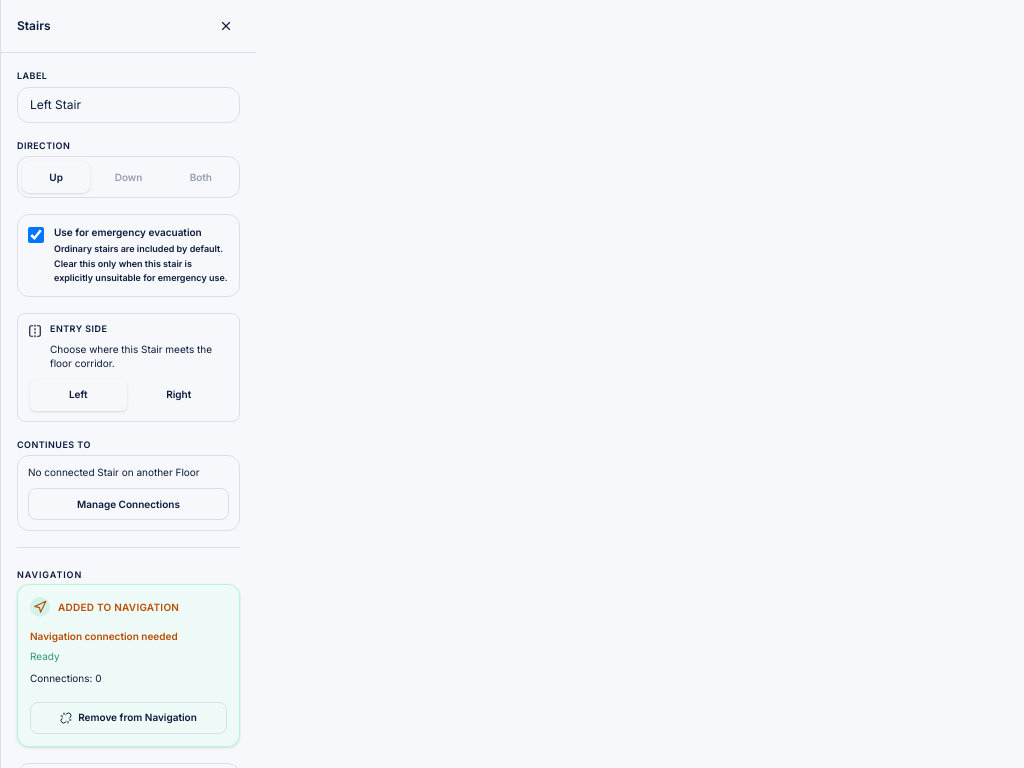
Test: Room authoring properties › keeps duplicate labels as explicit choices instead of auto-selecting one
Click the button with test id "circulation-group-trigger-stairs". click: (128, 504)
box: [28,488,229,520]
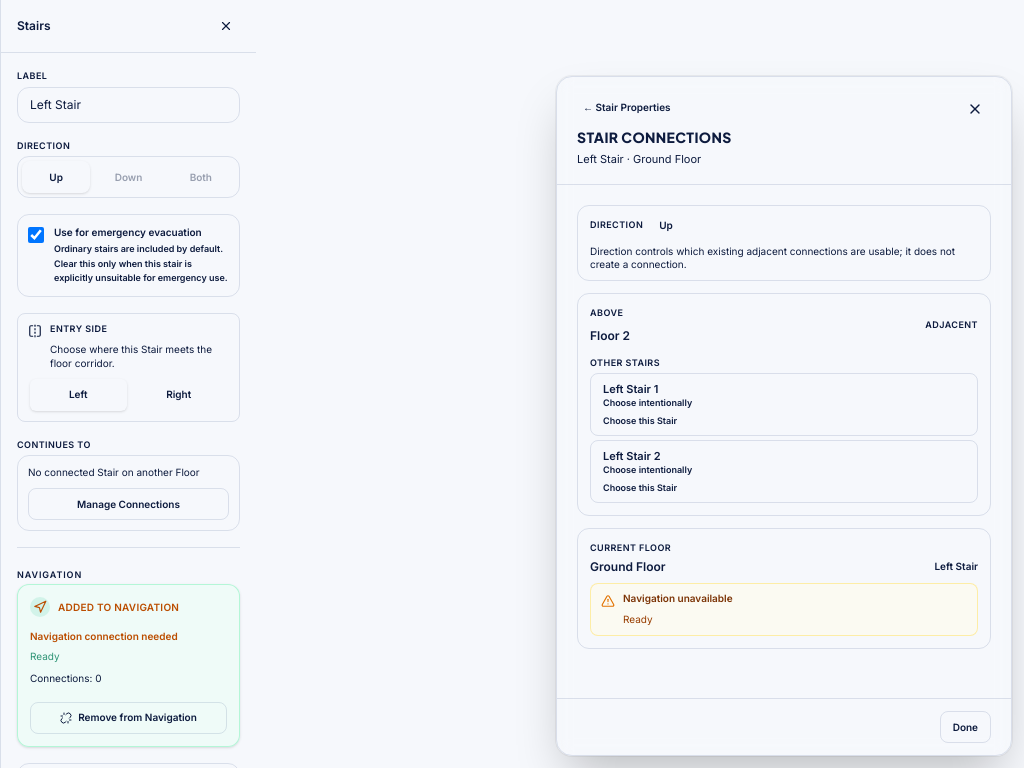
Check: the number of buttons "Left Stair 1 Choose intentionally Choose this Stair" is 2, box [590,373,978,436]; [590,440,978,503]
